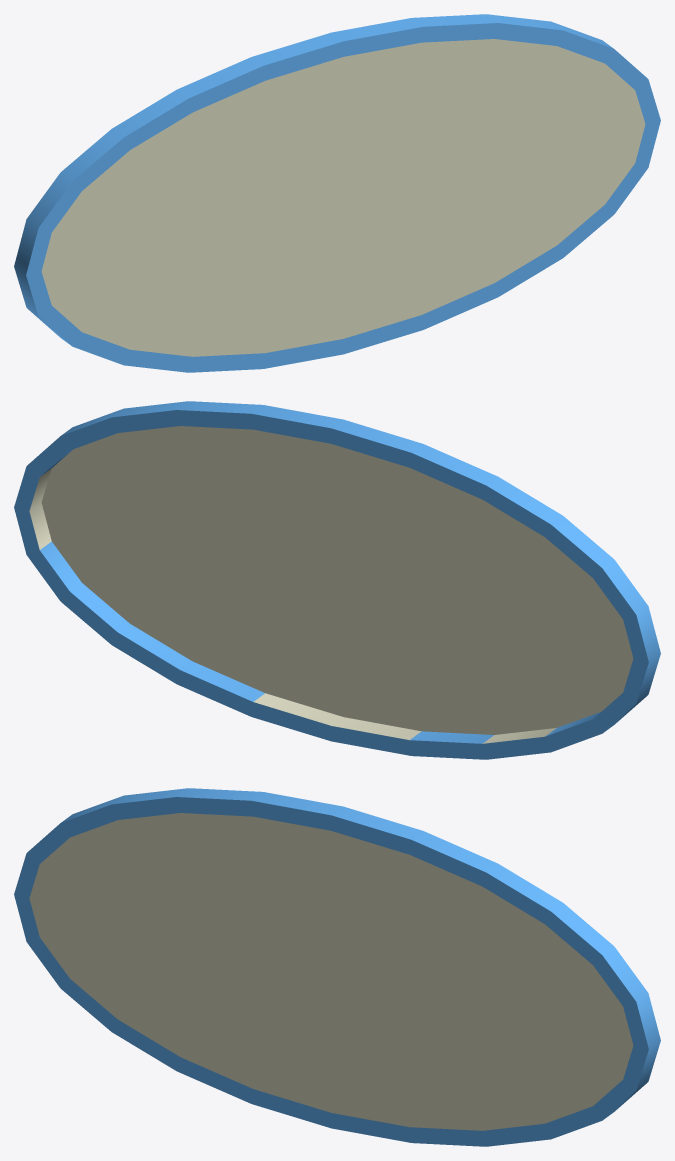
3 views of the same model, one above another, from view 1: azimuth 30°, elevation 25°; view 2: azimuth 150°, elevation 25°; view 3: azimuth 330°, elevation 25° (orthographic).
Parts seen in each view (by area): view 1: Group_001; view 2: Group_001; view 3: Group_001.
Boxes of the visible parts, bbox=[...] form: Group_001: bbox=[14, 14, 660, 372]; Group_001: bbox=[14, 401, 660, 759]; Group_001: bbox=[14, 788, 660, 1146].
Bounding box in the file's own units: 138 × 64.81 × 4.53.
